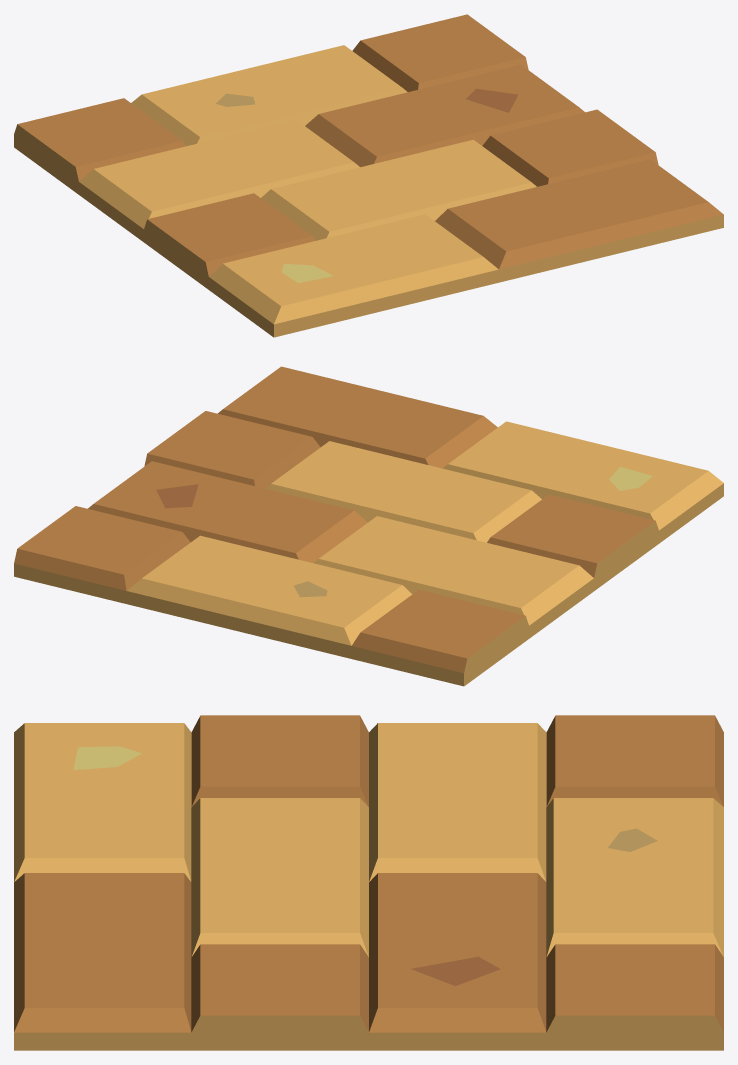
The model's file is Zemin.fbx.
3 renders of one model, top to bottom at view 1: azimuth 30°, elevation 25°; view 2: azimuth 150°, elevation 25°; view 3: azimuth 270°, elevation 25°, orthographic. The views are drawn at different scales.
Visible parts, largest first — view 1: Plane.004; view 2: Plane.004; view 3: Plane.004.
Boxes of the visible parts, bbox=[...] form: Plane.004: bbox=[14, 14, 723, 337]; Plane.004: bbox=[14, 366, 723, 686]; Plane.004: bbox=[14, 715, 723, 1050].
Size of the model in its own units: 100 by 5.44 by 100.
